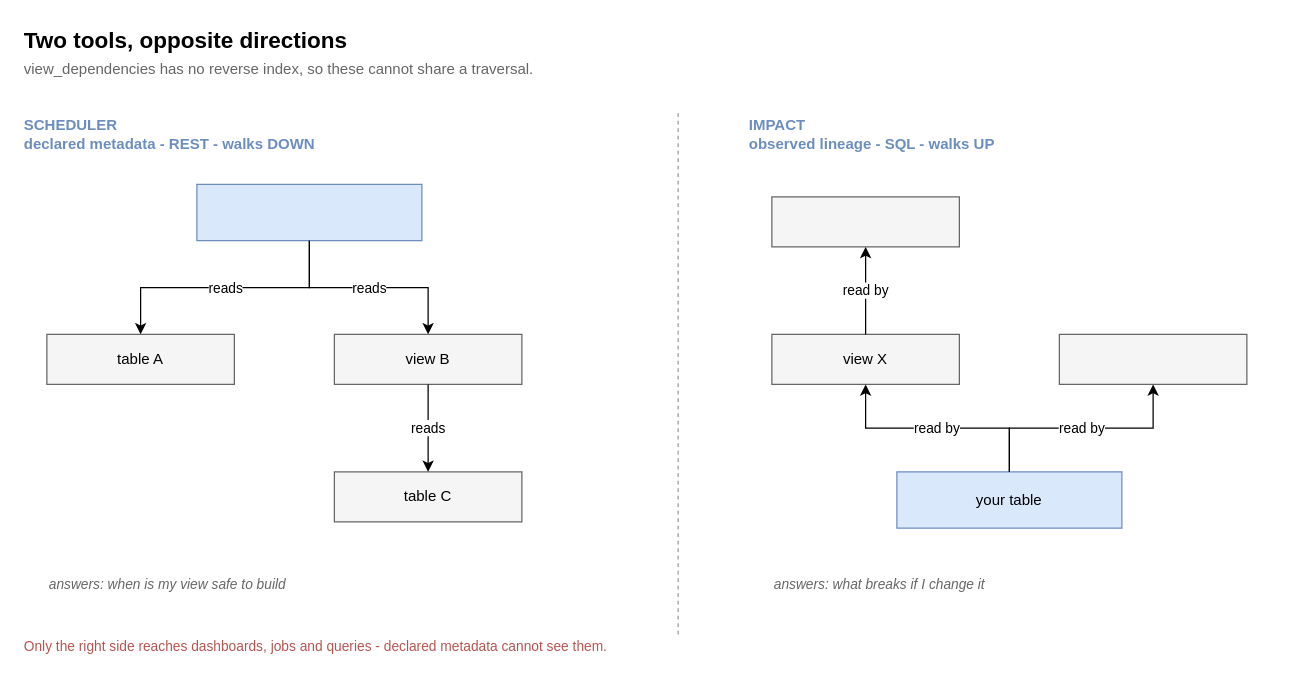
This 1293x680 diagram has some shape labels left out. Each missing label, with the centre of its shape:
"dashboard Z" belongs at (x=865, y=221).
"job Y" belongs at (x=1152, y=358).
"your view" belongs at (x=309, y=212).
